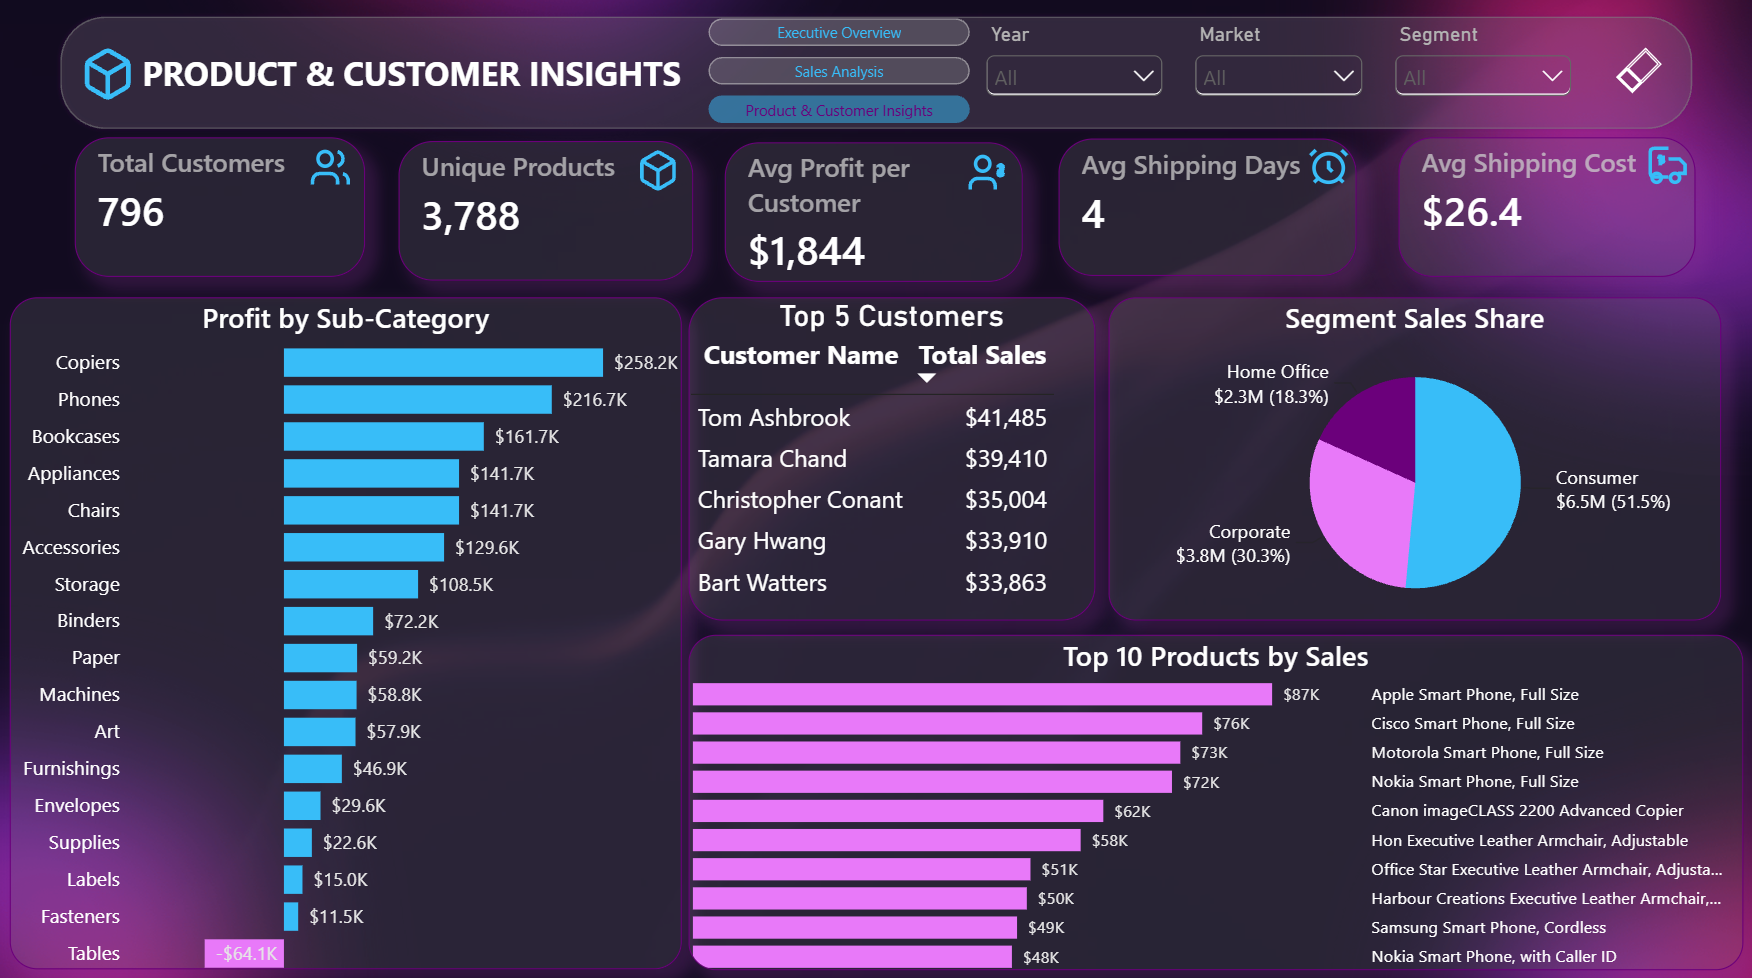

What the dashboard file says about the page in this screenshot:
{"tool":"powerbi","page":{"name":"Product & Customer Insights","canvas":[1280,720],"ordinal":2},"visuals":[{"type":"shape","box":[43.3,11.5,1193.2,88],"z":0},{"type":"cardVisual","fields":{"Data":["_Measures.Total Customers"]},"box":[57.1,102.9,211.4,101.4],"z":1000},{"type":"cardVisual","fields":{"Data":["_Measures.Unique Products"]},"box":[292.6,105.1,214.3,101.4],"z":2000},{"type":"cardVisual","fields":{"Data":["_Measures.Avg Shipping Days"]},"box":[772.9,104,217.1,100],"z":3000},{"type":"cardVisual","fields":{"Data":["_Measures.Avg Profit per Customer"]},"box":[530.3,106.3,217.1,101.4],"z":4000},{"type":"slicer","fields":{"Values":["Date_dim.Year"]},"box":[715.3,18.9,137.4,72.4],"z":5000},{"type":"slicer","fields":{"Values":["superstore_sales.market"]},"box":[866.9,18.9,131.3,72.4],"z":6000},{"type":"slicer","fields":{"Values":["superstore_sales.segment"]},"box":[1012.3,18.9,137.4,72.4],"z":7000},{"type":"actionButton","box":[1164.3,27.4,60.7,54.9],"z":8000},{"type":"image","box":[57.7,36.1,47.9,40.5],"z":9000},{"type":"image","box":[223.8,109,39,31.8],"z":10000},{"type":"image","box":[461.9,111.2,39,31.8],"z":11000},{"type":"image","box":[702.4,112.4,37.6,31.8],"z":12000},{"type":"image","box":[950,108.6,38.6,31.4],"z":13000},{"type":"pageNavigator","box":[517.8,16,190.2,78.5],"z":14000},{"type":"cardVisual","fields":{"Data":["_Measures.Avg Shipping Cost"]},"box":[1020,102.9,215.7,101.4],"z":15000},{"type":"image","box":[1194.3,108.6,38.6,31.4],"z":16000},{"type":"clusteredBarChart","title":"Profit by Sub-Category","fields":{"Category":["superstore_sales.sub_category"],"Y":["_Measures.Total Profit"]},"box":[10.1,219.3,489.1,489.1],"z":17000},{"type":"clusteredBarChart","title":"Top 10 Products by Sales","fields":{"Category":["superstore_sales.product_name"],"Y":["_Measures.Total Sales"]},"box":[503.5,464.6,767.5,243.8],"z":18000},{"type":"tableEx","title":"Top 5 Customers","fields":{"Values":["superstore_sales.customer_name","_Measures.Total Sales"]},"box":[503.5,219.3,295.8,235.2],"z":19000},{"type":"pieChart","title":"Segment Sales Share","fields":{"Category":["superstore_sales.segment"],"Y":["_Measures.Total Sales"]},"box":[809.4,219.3,445.8,235.2],"z":19001}]}

Visuals, with their boxes in screenshot pixels (x1, y1, x2, y2), scaled from the page's 1280x720 canvas onto the 1752x978 screenshot:
shape: 59/16/1692/135
cardVisual - _Measures.Total Customers: 78/140/368/278
cardVisual - _Measures.Unique Products: 400/143/694/280
cardVisual - _Measures.Avg Shipping Days: 1058/141/1355/277
cardVisual - _Measures.Avg Profit per Customer: 726/144/1023/282
slicer - Date_dim.Year: 979/26/1167/124
slicer - superstore_sales.market: 1187/26/1366/124
slicer - superstore_sales.segment: 1386/26/1574/124
actionButton: 1594/37/1677/112
image: 79/49/145/104
image: 306/148/360/191
image: 632/151/686/194
image: 961/153/1013/196
image: 1300/148/1353/190
pageNavigator: 709/22/969/128
cardVisual - _Measures.Avg Shipping Cost: 1396/140/1691/278
image: 1635/148/1688/190
"Profit by Sub-Category" clusteredBarChart: 14/298/683/962
"Top 10 Products by Sales" clusteredBarChart: 689/631/1740/962
"Top 5 Customers" tableEx: 689/298/1094/617
"Segment Sales Share" pieChart: 1108/298/1718/617
